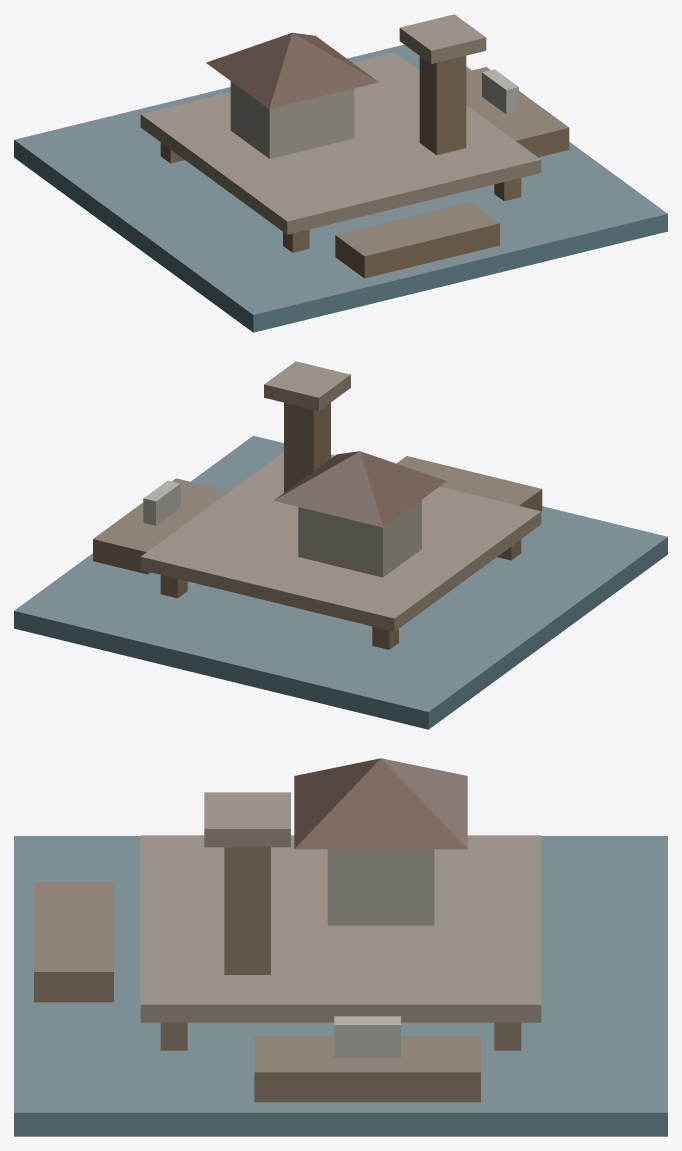
Rendered from water.gltf.
3 views of the same model, one above another, from view 1: azimuth 30°, elevation 25°; view 2: azimuth 150°, elevation 25°; view 3: azimuth 270°, elevation 25° (orthographic). The views are drawn at different scales.
Parts seen in each view (by area): view 1: building-water; view 2: building-water; view 3: building-water.
Part boxes in pixels (x1,y1,x2,y2): building-water: [14, 14, 667, 332]; building-water: [14, 361, 667, 729]; building-water: [14, 758, 667, 1136].
Size of the model in its own units: 0.98 by 0.385 by 0.98.
